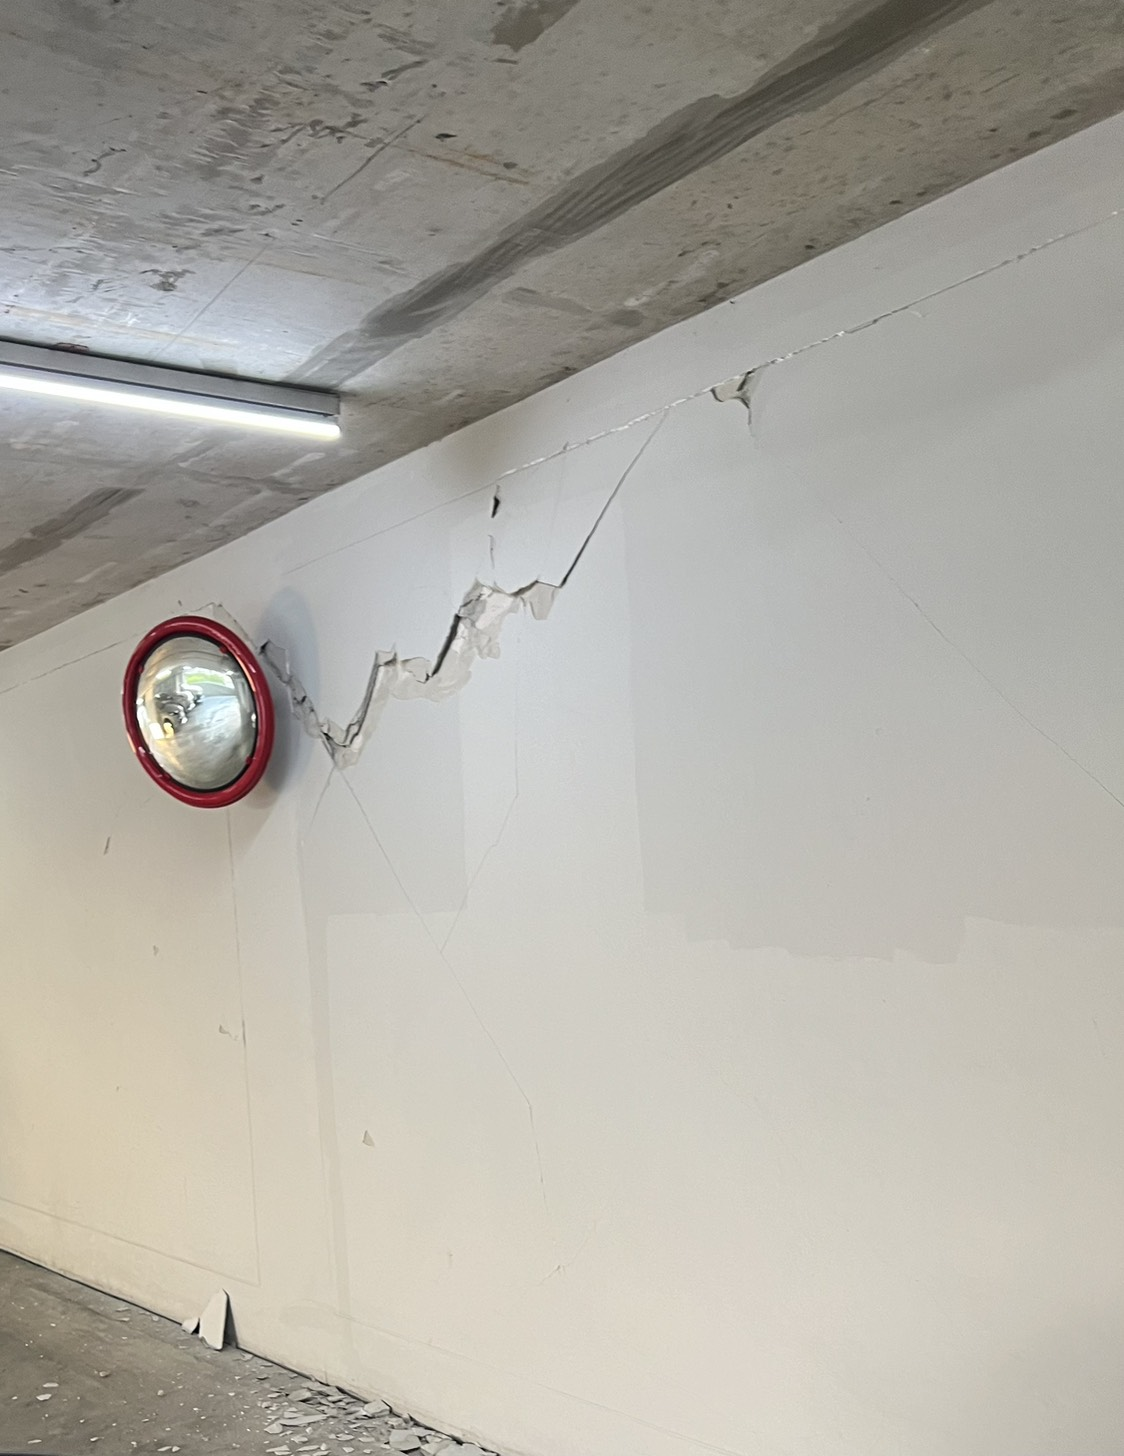Medium: (276, 540, 838, 773)
